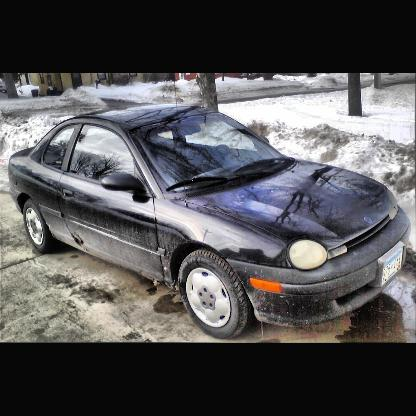Plymouth Neon Coupe 1999: (8, 104, 412, 341)
